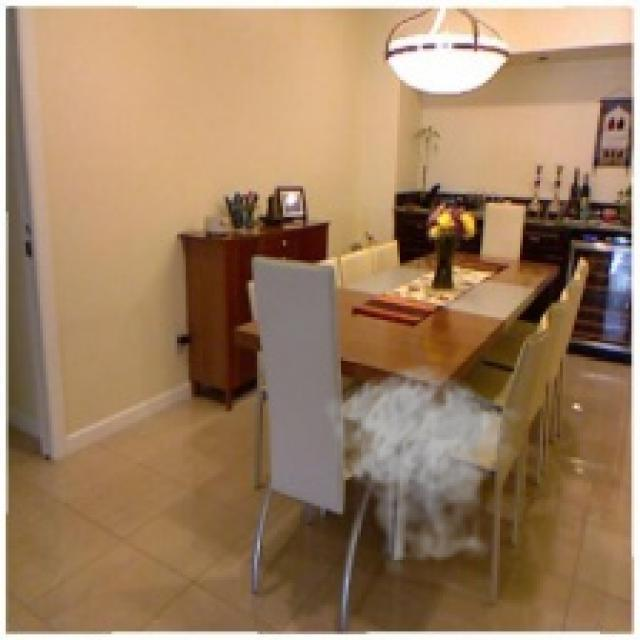Smoke: (323, 362, 526, 578)
